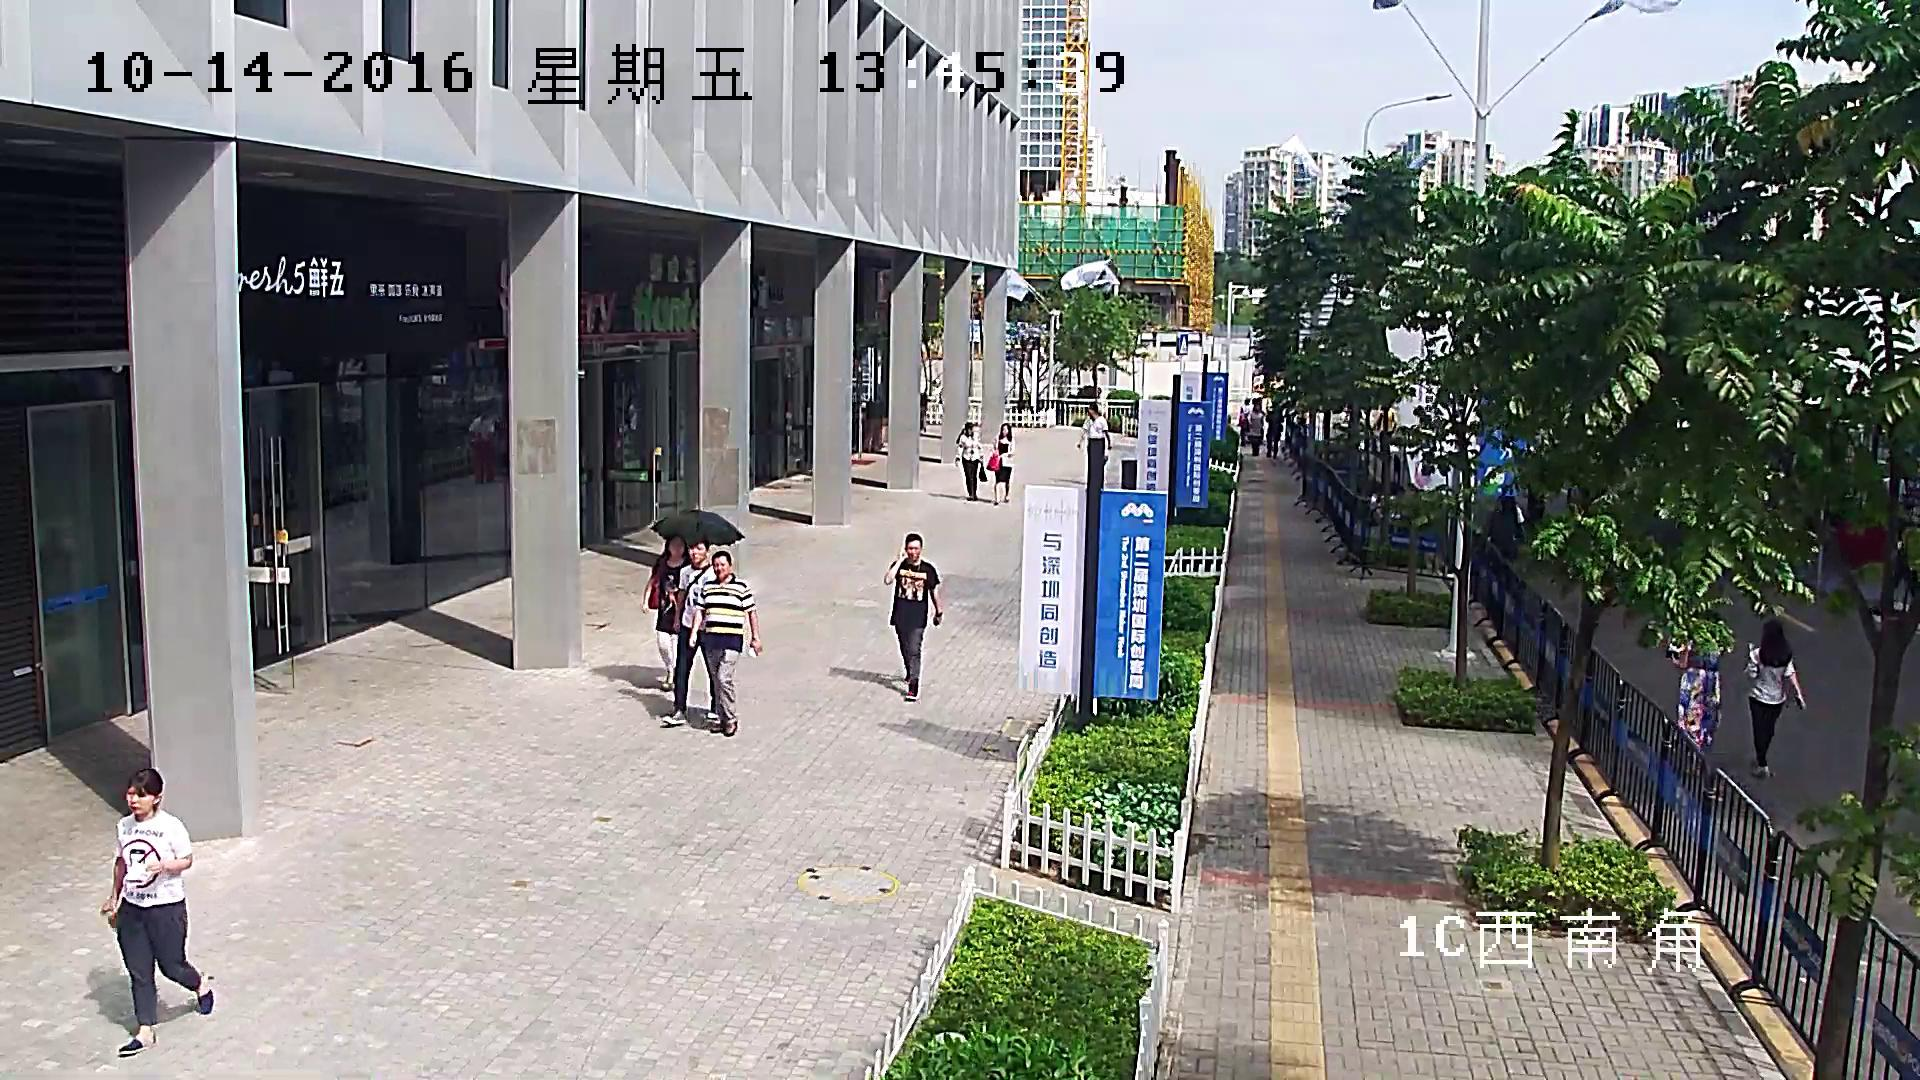person: (98, 766, 217, 1057), (640, 508, 746, 691), (688, 549, 762, 736), (659, 540, 716, 729), (1742, 619, 1807, 778), (882, 531, 942, 701), (640, 534, 692, 690), (1670, 637, 1735, 750), (953, 421, 988, 501), (985, 422, 1014, 506), (1076, 405, 1113, 464), (1265, 404, 1283, 460), (1248, 399, 1264, 456), (1237, 398, 1250, 446)
